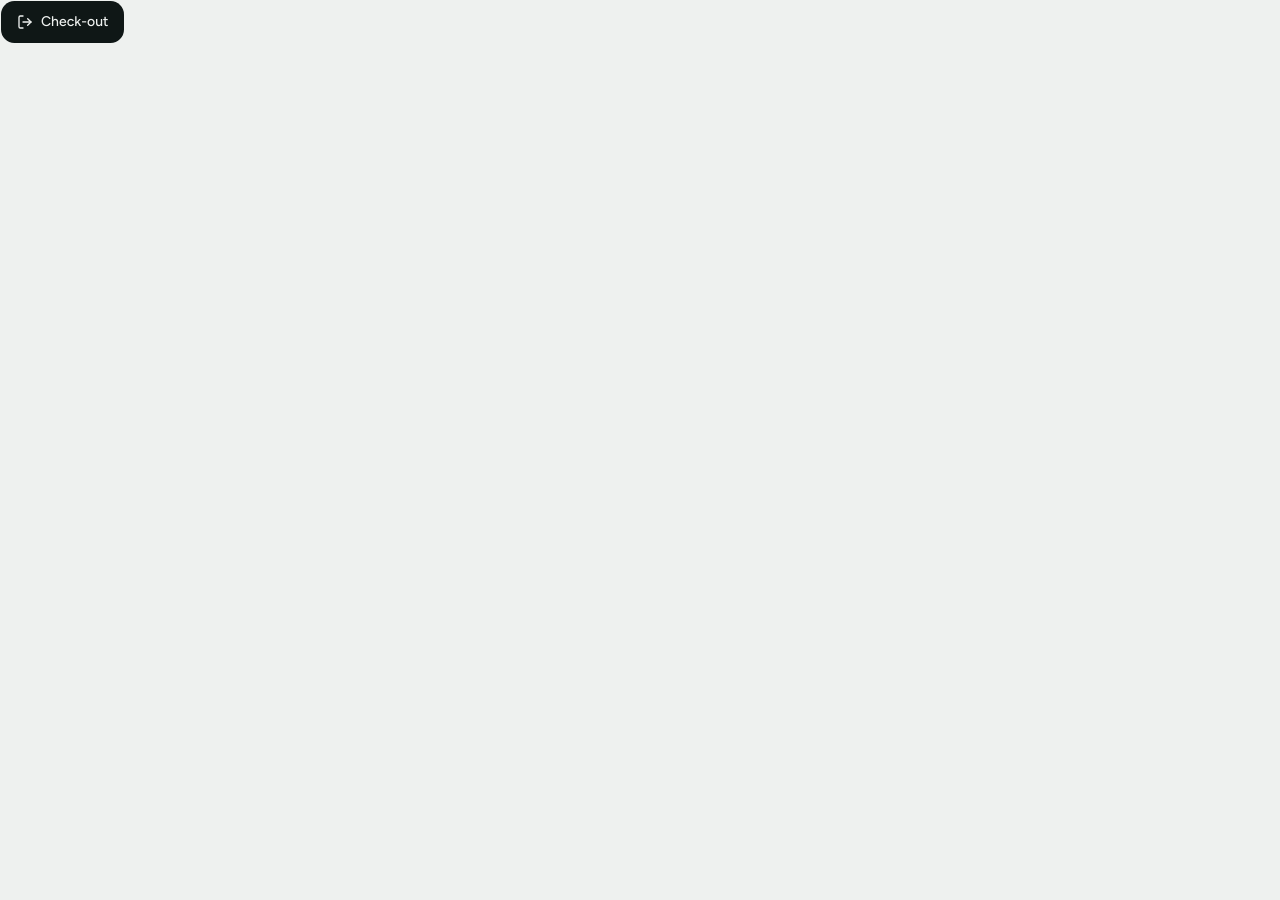
Test: confirmação do check-out › consumo em aberto aparece e não diz que está quitada
Click the button "Check-out": (63,22) x1=0 y1=0 x2=125 y2=44
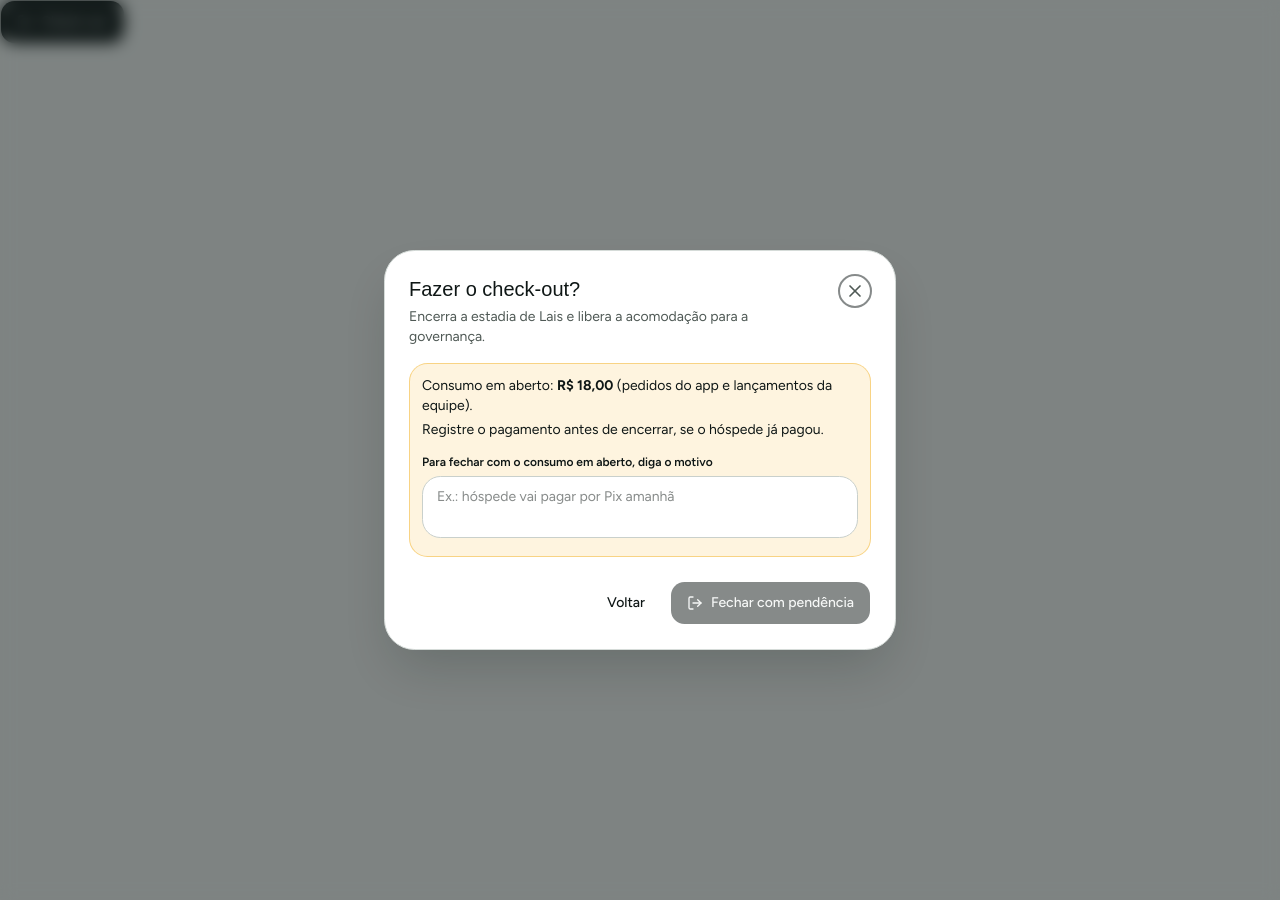
Now the text "Consumo em aberto" is shown, box x1=422 y1=377 x2=557 y2=394
